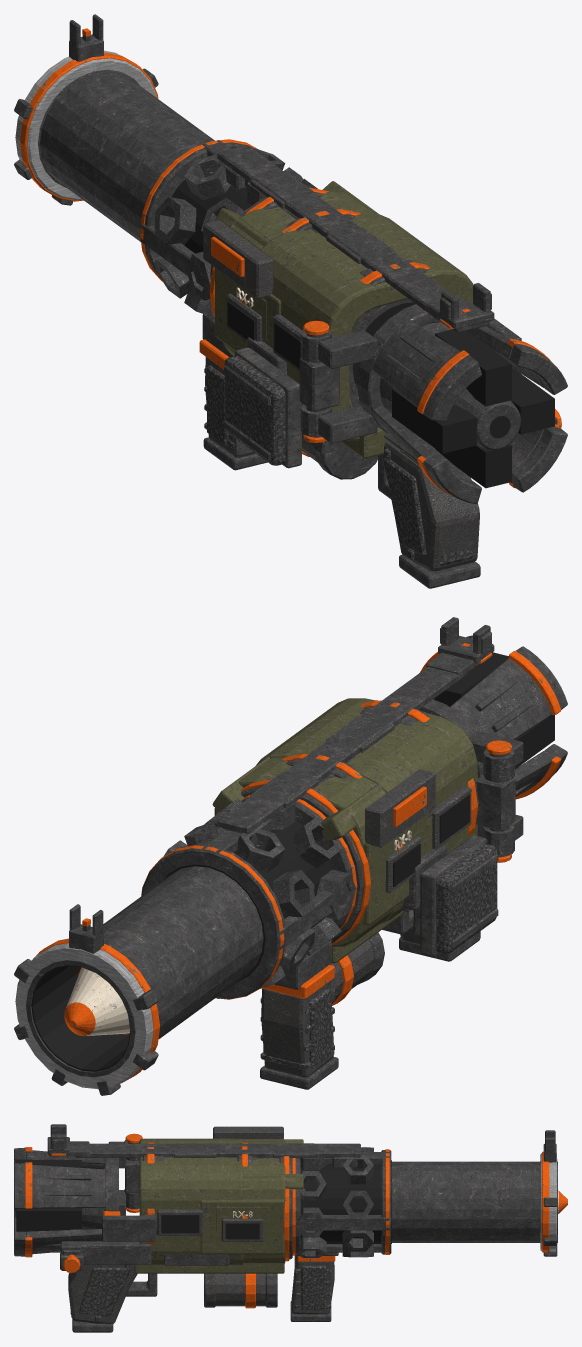
Rendered from torch.gltf.
The picture shows the model from 3 angles, top to bottom: view 1: azimuth 30°, elevation 25°; view 2: azimuth 150°, elevation 25°; view 3: azimuth 270°, elevation 25°; orthographic projection. The views are drawn at different scales.
Visible parts, largest first — view 1: body, gate | gunmetal, gate | cavity black, mag, gate | orange paint; view 2: body, gate | gunmetal, round | ivory coating, gate | cavity black, mag, gate | orange paint, round | orange paint; view 3: body, gate | gunmetal, mag, gate | cavity black, gate | orange paint, bolt, trigger.
Part boxes in pixels (left/top/right/bottom): body: left=14, top=14, right=521, bottom=588; gate | gunmetal: left=300, top=304, right=567, bottom=503; gate | cavity black: left=392, top=329, right=554, bottom=488; mag: left=302, top=433, right=377, bottom=479; gate | orange paint: left=417, top=338, right=560, bottom=496; body: left=14, top=617, right=515, bottom=1095; gate | gunmetal: left=419, top=635, right=567, bottom=856; round | ivory coating: left=66, top=967, right=130, bottom=1035; gate | cavity black: left=433, top=652, right=554, bottom=769; mag: left=331, top=932, right=384, bottom=1005; gate | orange paint: left=420, top=651, right=561, bottom=799; round | orange paint: left=64, top=967, right=129, bottom=1036; body: left=47, top=1124, right=557, bottom=1332; gate | gunmetal: left=14, top=1139, right=139, bottom=1256; mag: left=204, top=1273, right=277, bottom=1308; gate | cavity black: left=14, top=1160, right=81, bottom=1231; gate | orange paint: left=25, top=1147, right=120, bottom=1257; bolt: left=60, top=1246, right=88, bottom=1273; trigger: left=126, top=1273, right=157, bottom=1296.
Size of the model in its own units: 0.245 by 0.327 by 0.843.
Materials: 8 (7 with a texture image).
